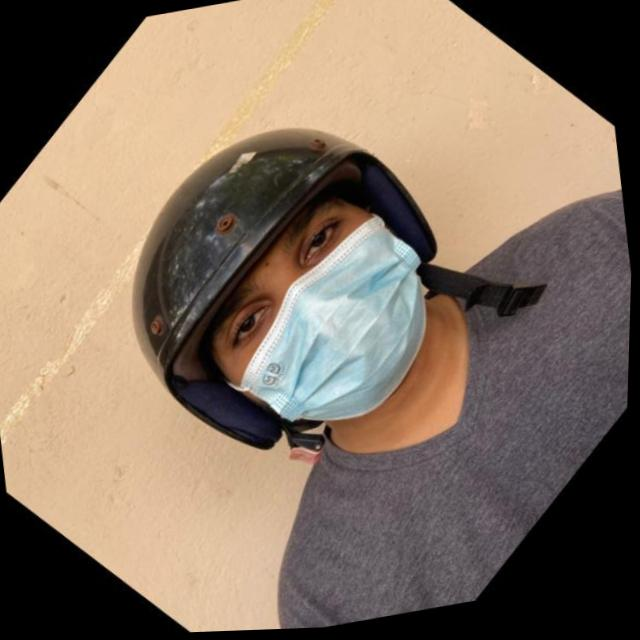WITH_HELMET: (32, 28, 534, 534)
